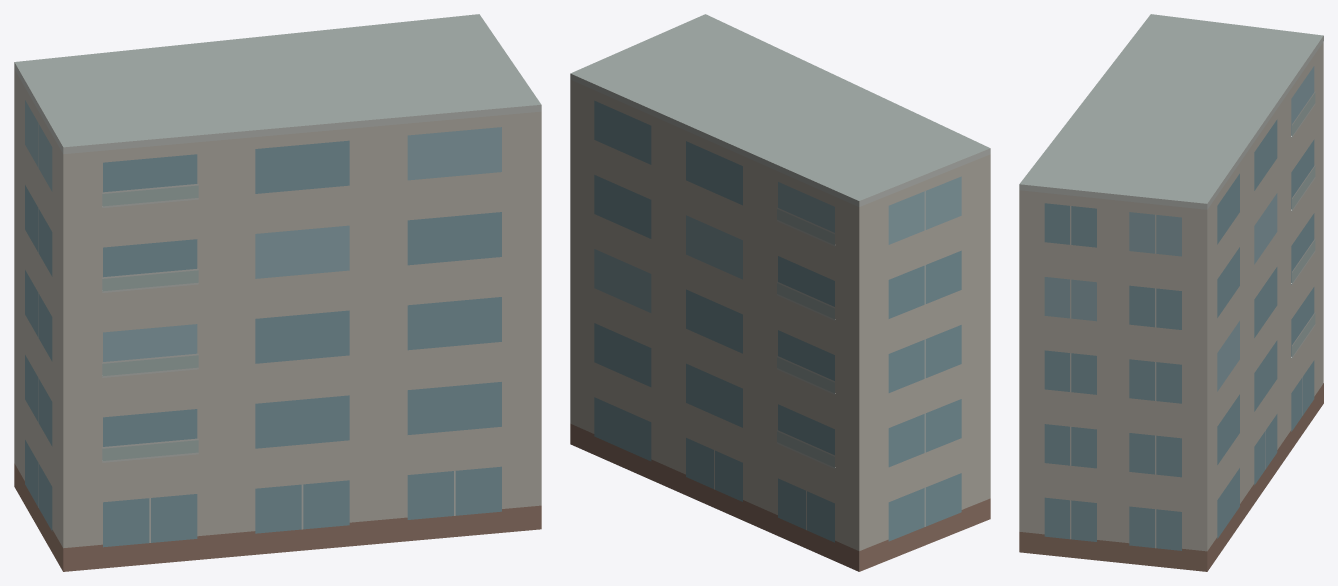
The model's file is survey-upis-32880783.glb.
3 renders of one model, left to right at view 1: azimuth 30°, elevation 25°; view 2: azimuth 150°, elevation 25°; view 3: azimuth 270°, elevation 25°, orthographic. The views are drawn at different scales.
Visible parts, largest first — view 1: survey-upis-32880783.tmp; view 2: survey-upis-32880783.tmp; view 3: survey-upis-32880783.tmp.
Boxes of the visible parts, x1=… form: survey-upis-32880783.tmp: x1=14, y1=14, x2=541, y2=571; survey-upis-32880783.tmp: x1=570, y1=14, x2=990, y2=571; survey-upis-32880783.tmp: x1=1019, y1=14, x2=1323, y2=571.
Bounding box in the file's own units: 16.71 × 15.1 × 11.33.
